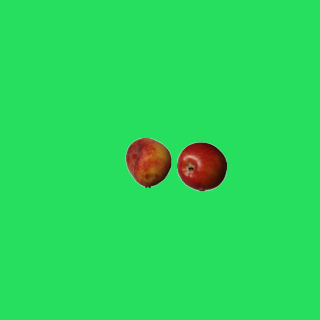Apple Braeburn: (176, 141, 226, 191)
Peach: (123, 137, 173, 187)
